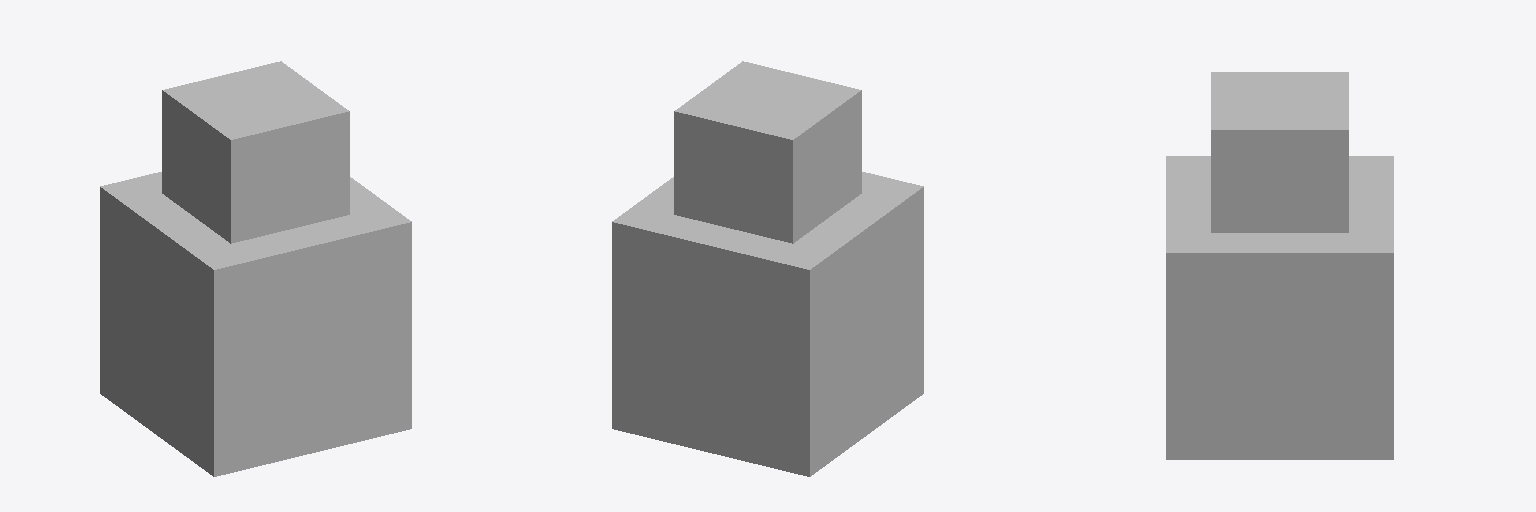
Rendered from twelveLight.obj.
3 renders of one model, left to right at view 1: azimuth 30°, elevation 25°; view 2: azimuth 150°, elevation 25°; view 3: azimuth 270°, elevation 25°, orthographic.
Parts seen in each view (by area): view 1: Cube_Cube.001; view 2: Cube_Cube.001; view 3: Cube_Cube.001.
Boxes of the visible parts, box(x1,y1,x2,y2) form: Cube_Cube.001: box(100, 61, 411, 476); Cube_Cube.001: box(612, 61, 923, 476); Cube_Cube.001: box(1166, 72, 1393, 459).
Bounding box in the file's own units: 0.1 × 0.15 × 0.1.